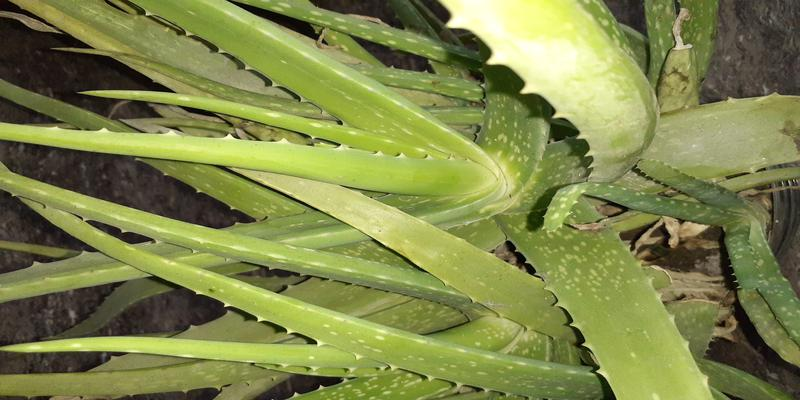Aloevera: (106, 28, 743, 378)
